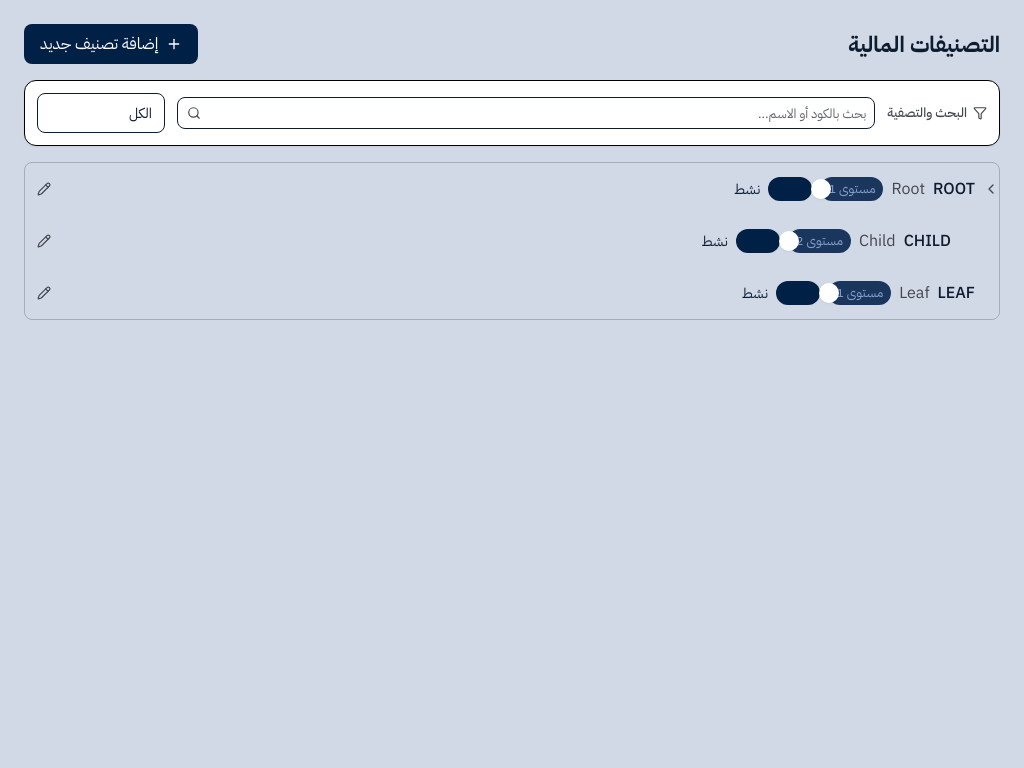
Scenario: T015: Validation › create button opens dialog
Click the button "إضافة تصنيف جديد" at (111, 44), box x1=24 y1=24 x2=198 y2=64
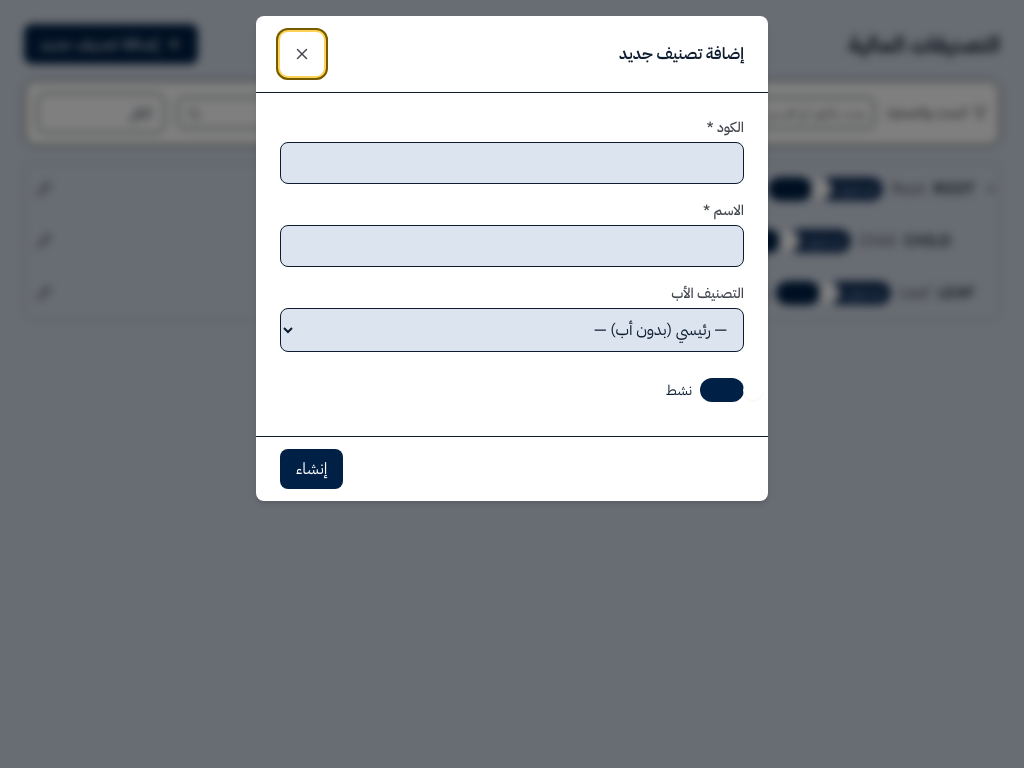
Now the dialog is shown, box x1=256 y1=16 x2=768 y2=501
